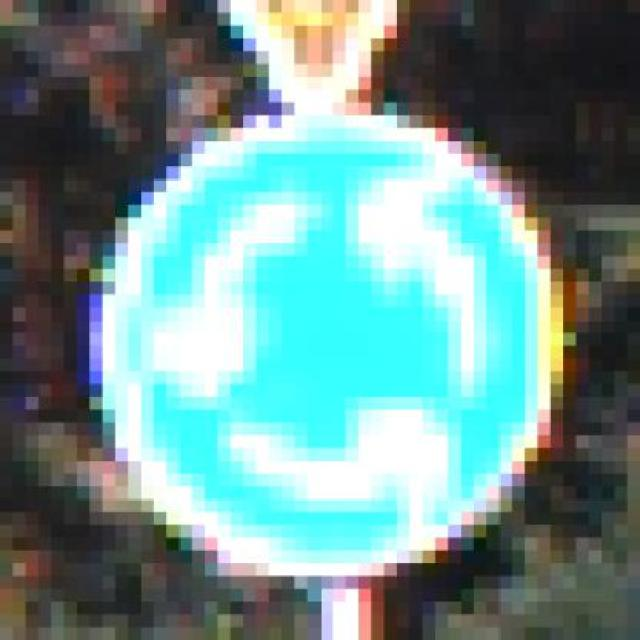Round-About: (64, 116, 588, 590)
